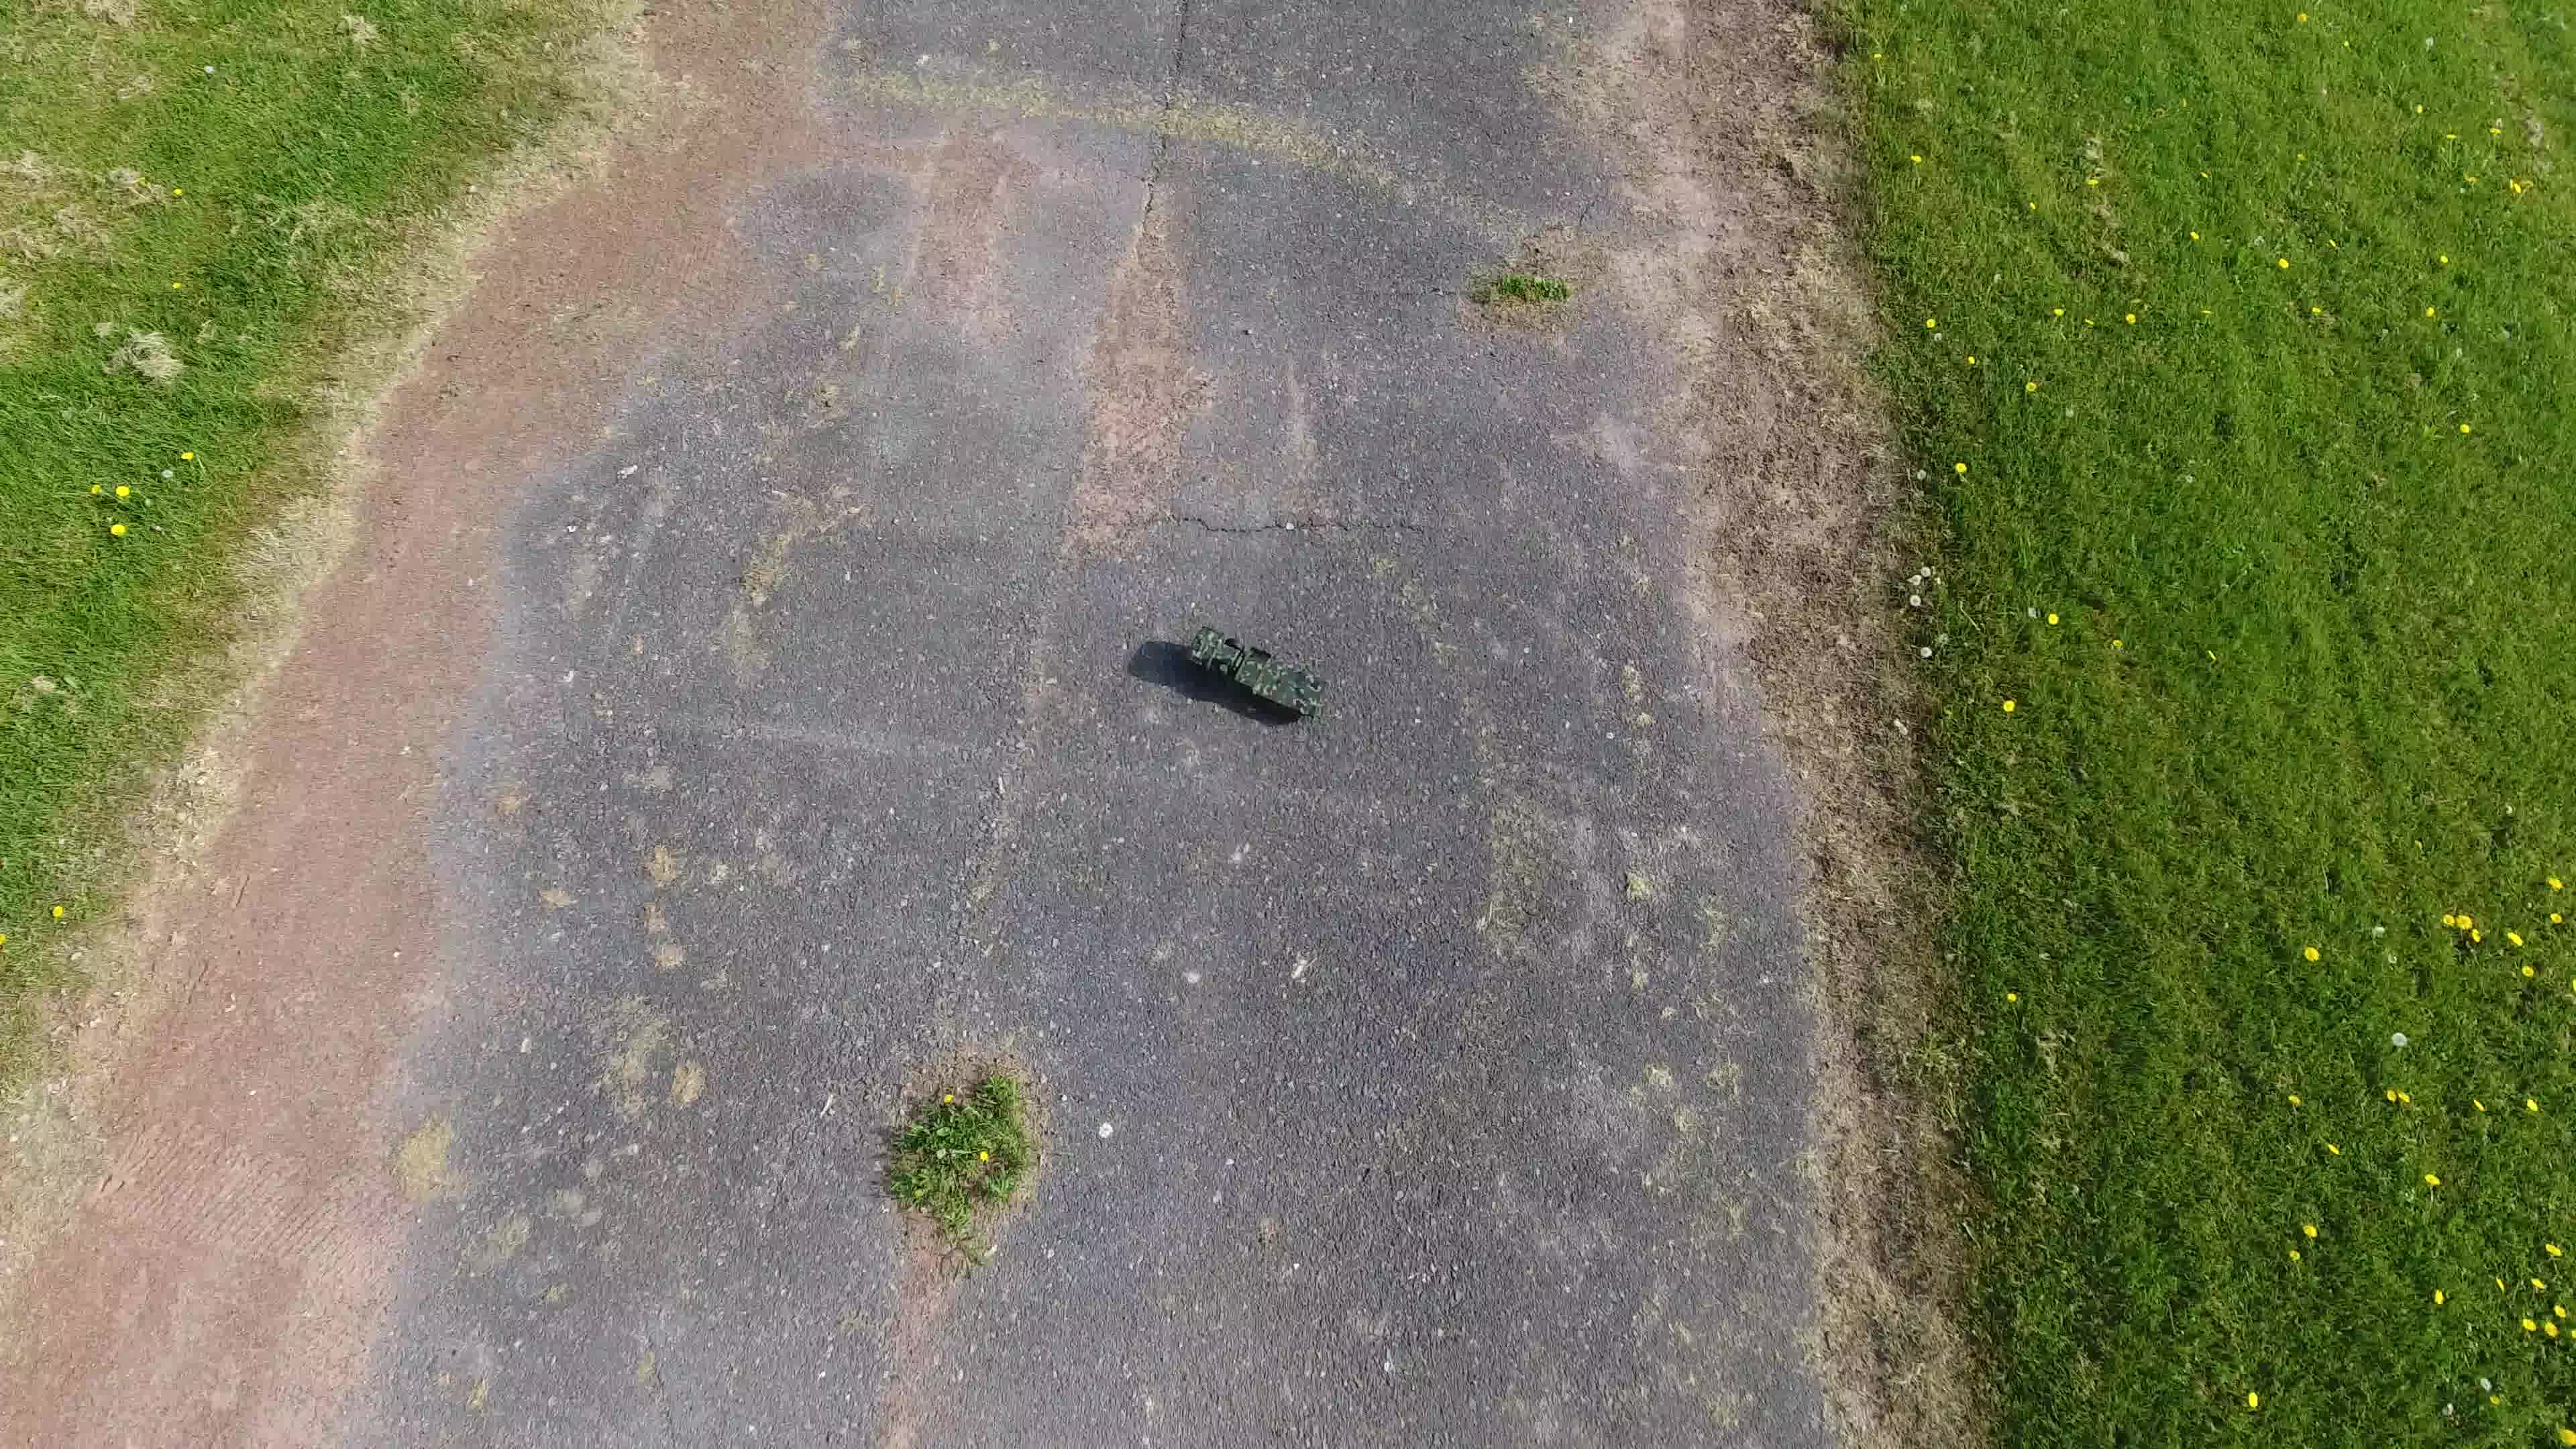transporter9_camo: (1177, 623, 1336, 729)
